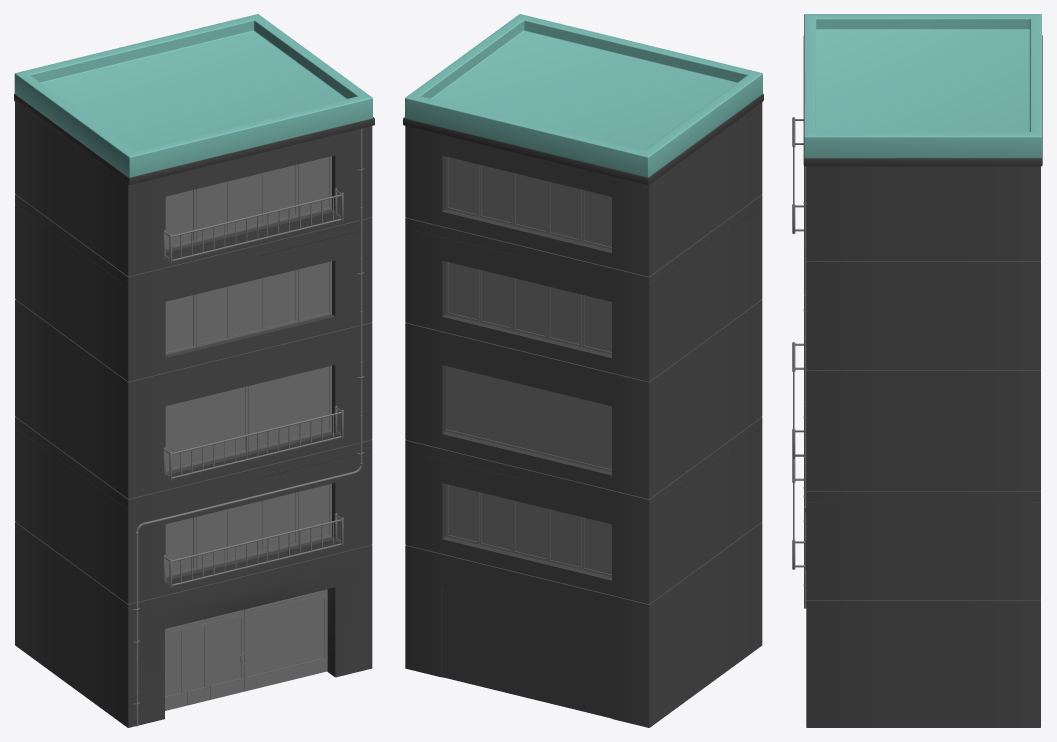
Rendered from SM_building_standard_02.fbx.
3 renders of one model, left to right at view 1: azimuth 30°, elevation 25°; view 2: azimuth 150°, elevation 25°; view 3: azimuth 270°, elevation 25°, orthographic. The views are drawn at different scales.
Visible parts, largest first — view 1: Object1284551; view 2: Object1284551; view 3: Object1284551.
Boxes of the visible parts, x1,y1,x2,y2 form: Object1284551: (14,14,374,727); Object1284551: (403,14,763,727); Object1284551: (792,14,1042,727).
Size of the model in its own units: 319 by 708 by 272.
